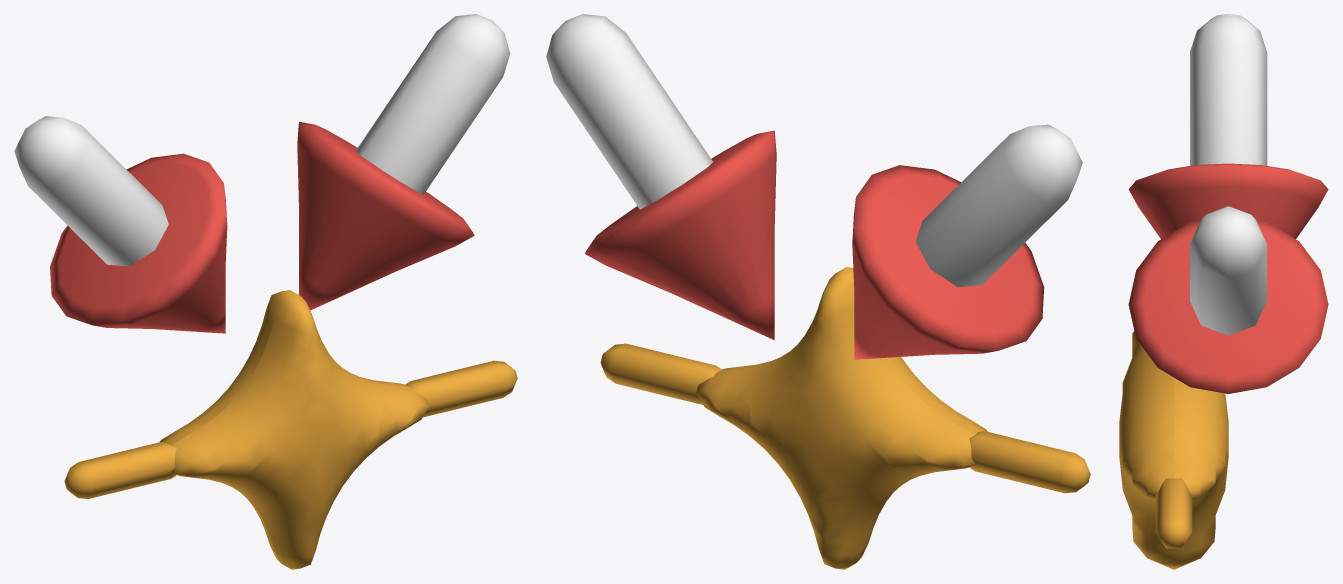
File: git_conflict.glb
3 renders of one model, left to right at view 1: azimuth 30°, elevation 25°; view 2: azimuth 150°, elevation 25°; view 3: azimuth 270°, elevation 25°, orthographic. The views are drawn at different scales.
Visible parts, largest first — view 1: git_conflict; view 2: git_conflict; view 3: git_conflict.
Part boxes in pixels (x1,y1,x2,y2): git_conflict: [14, 14, 517, 569]; git_conflict: [546, 14, 1090, 569]; git_conflict: [1119, 14, 1328, 569].
Size of the model in its own units: 1 by 0.9452 by 0.3934.
